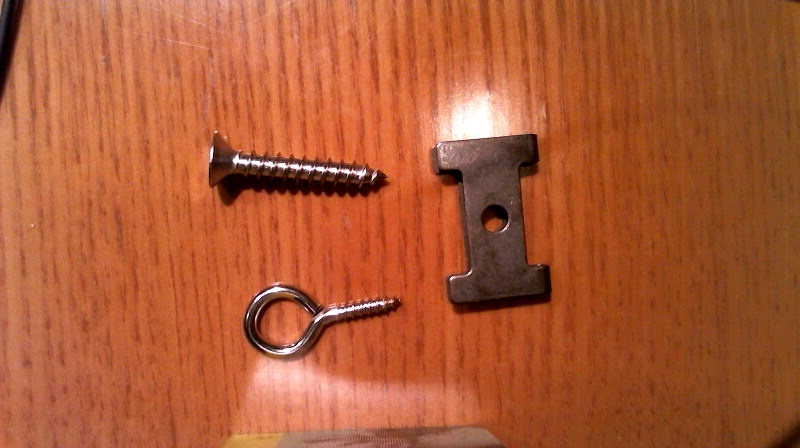O001: (241, 276, 409, 364)
O002: (436, 128, 557, 310)
S001: (203, 127, 392, 197)
